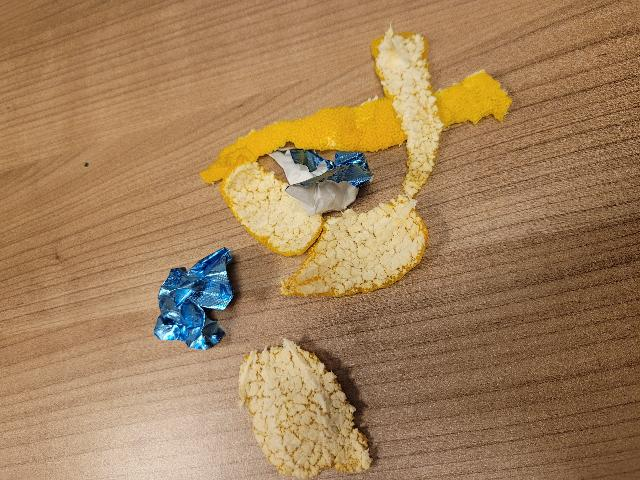Organik: (237, 347, 376, 480), (264, 216, 432, 299), (374, 15, 446, 171)
Plastik: (125, 247, 245, 354), (270, 146, 370, 215)
